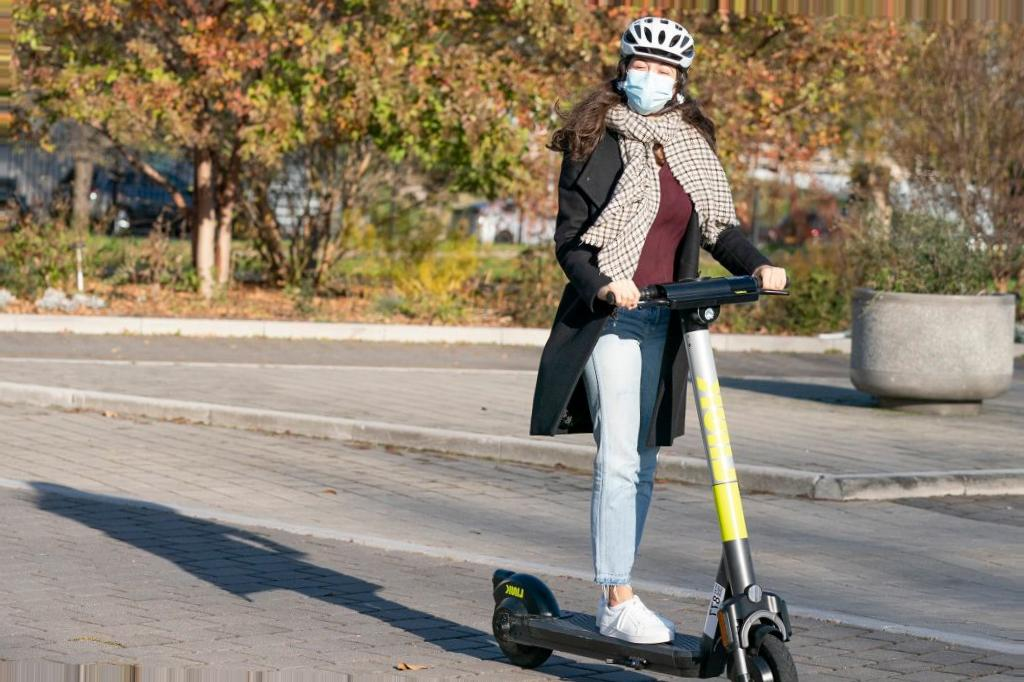scooter: (490, 274, 796, 682)
with helmet: (617, 15, 696, 118)
